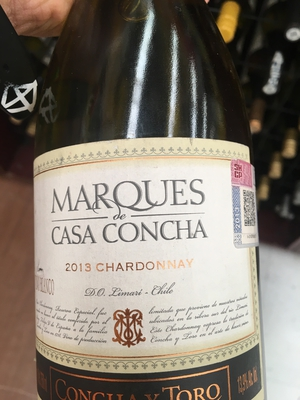marques de casa concha chardonnay: (20, 58, 278, 400)
